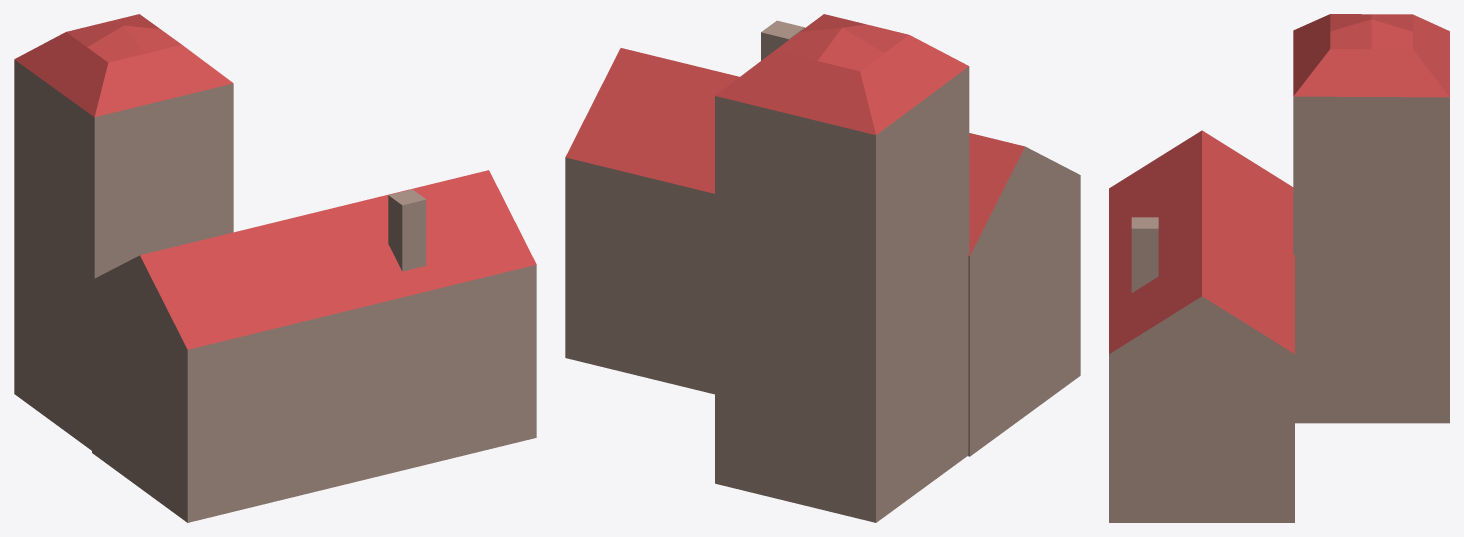
Rendered from house4.fbx.
3 views of the same model, side by side, from view 1: azimuth 30°, elevation 25°; view 2: azimuth 150°, elevation 25°; view 3: azimuth 270°, elevation 25° (orthographic). The views are drawn at different scales.
Parts seen in each view (by area): view 1: House4; view 2: House4; view 3: House4.
Part boxes in pixels (x1,y1,x2,y2): House4: [14, 14, 536, 522]; House4: [565, 14, 1080, 522]; House4: [1109, 14, 1449, 522].
Size of the model in its own units: 49.51 by 42.97 by 51.69.
